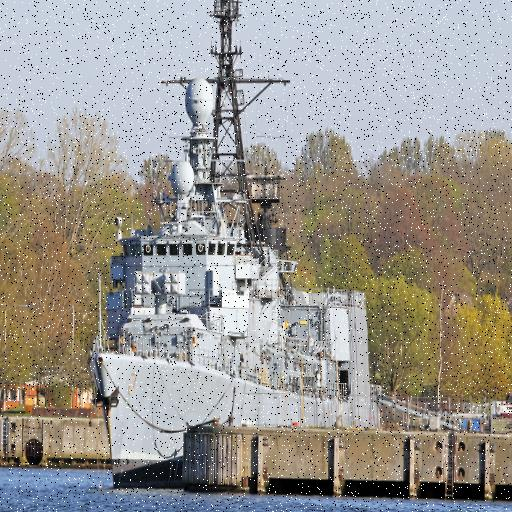Fragata: (85, 1, 377, 493)
